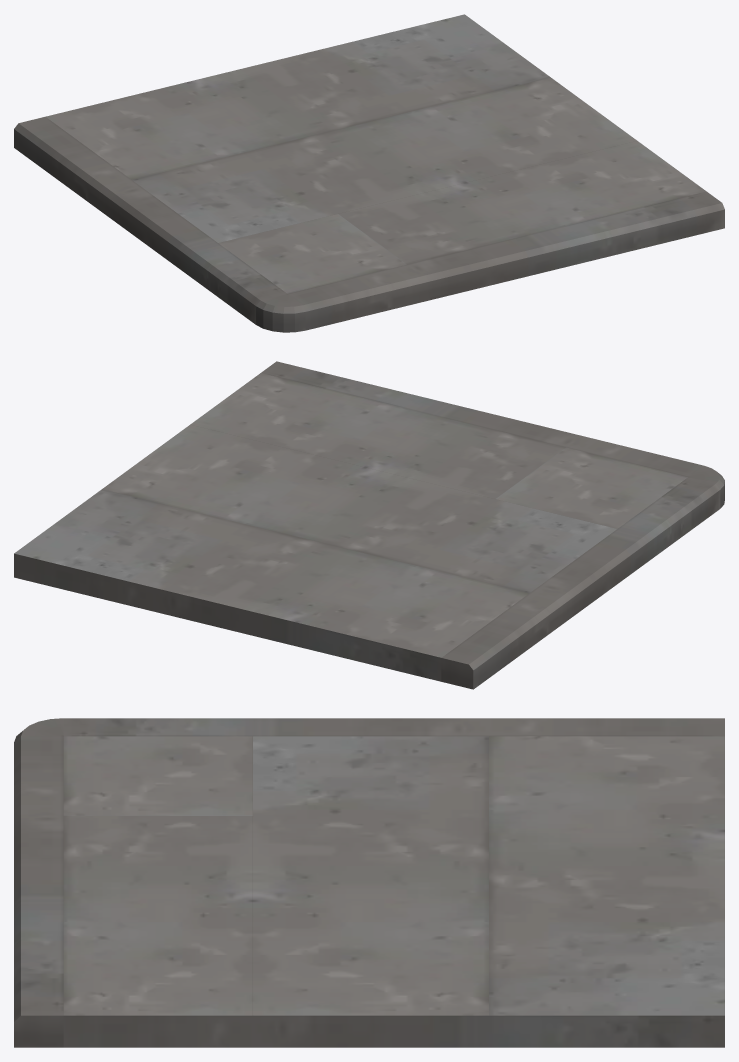
File: Sidewalk_Corner_Flat_3m.glb
3 views of the same model, one above another, from view 1: azimuth 30°, elevation 25°; view 2: azimuth 150°, elevation 25°; view 3: azimuth 270°, elevation 25° (orthographic). The views are drawn at different scales.
Parts seen in each view (by area): view 1: Sidewalk_Corner_Flat_3m; view 2: Sidewalk_Corner_Flat_3m; view 3: Sidewalk_Corner_Flat_3m.
Boxes of the visible parts, bbox=[...] form: Sidewalk_Corner_Flat_3m: bbox=[14, 14, 724, 332]; Sidewalk_Corner_Flat_3m: bbox=[14, 361, 724, 689]; Sidewalk_Corner_Flat_3m: bbox=[14, 718, 724, 1047].
Size of the model in its own units: 3.01 by 0.1499 by 3.01.
Materials: 1 (1 with a texture image).
